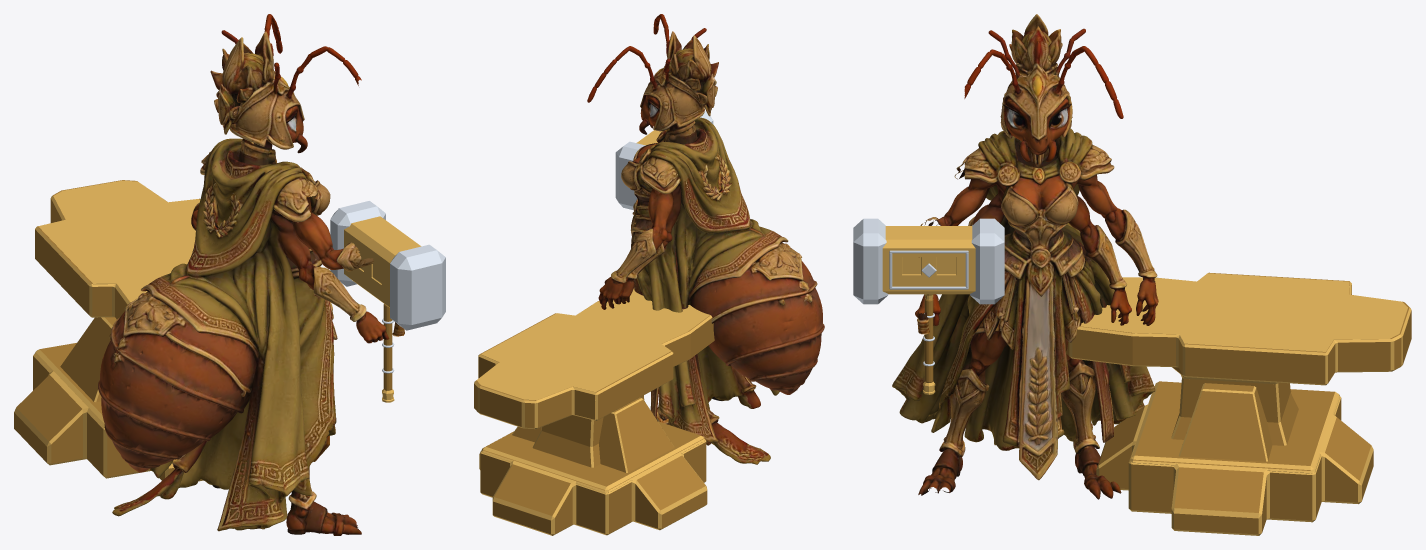
Rendered from gelbe_koenigin.glb.
3 views of the same model, side by side, from view 1: azimuth 30°, elevation 25°; view 2: azimuth 150°, elevation 25°; view 3: azimuth 270°, elevation 25° (orthographic). The views are drawn at different scales.
Parts seen in each view (by area): view 1: node_829f3283-8135-4959-af35-5a2a925ba8d4, Central forged block, Straight brown textured grip, Left massive striking end; view 2: node_829f3283-8135-4959-af35-5a2a925ba8d4, Straight brown textured grip, Central forged block, Left massive striking end; view 3: node_829f3283-8135-4959-af35-5a2a925ba8d4, Straight brown textured grip, Central forged block, Left massive striking end.
Boxes of the visible parts, x1,y1,x2,y2 form: node_829f3283-8135-4959-af35-5a2a925ba8d4: (98, 14, 404, 535); Central forged block: (14, 180, 421, 481); Straight brown textured grip: (14, 180, 392, 480); Left massive striking end: (330, 201, 445, 373); node_829f3283-8135-4959-af35-5a2a925ba8d4: (587, 14, 824, 464); Straight brown textured grip: (474, 301, 714, 534); Central forged block: (474, 130, 712, 535); Left massive striking end: (615, 111, 713, 210); node_829f3283-8135-4959-af35-5a2a925ba8d4: (892, 14, 1158, 499); Straight brown textured grip: (924, 272, 1411, 534); Central forged block: (882, 226, 1411, 535); Left massive striking end: (853, 218, 1004, 366).
Bounding box in the file's own units: 0.6227 × 0.9866 × 1.09.
4 materials, 1 textured.
